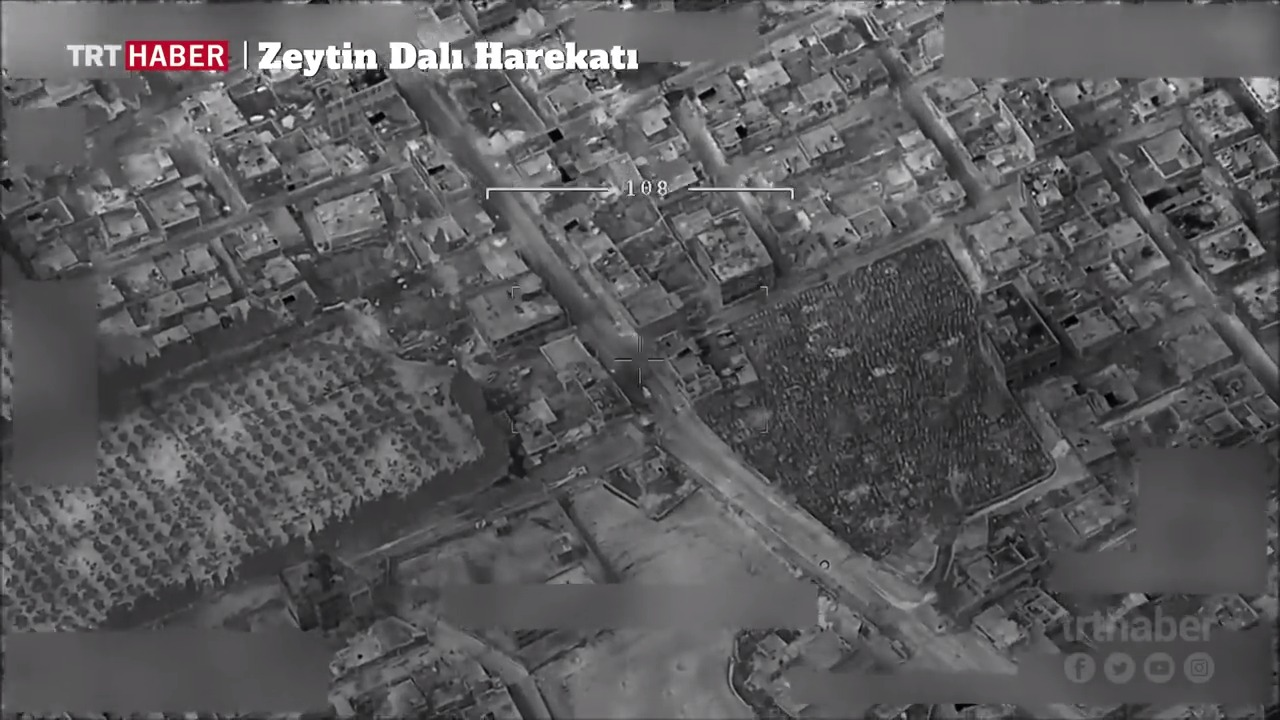bina: (686, 205, 774, 299), (468, 272, 568, 348), (1116, 122, 1204, 206), (135, 175, 213, 240), (308, 186, 389, 245)
